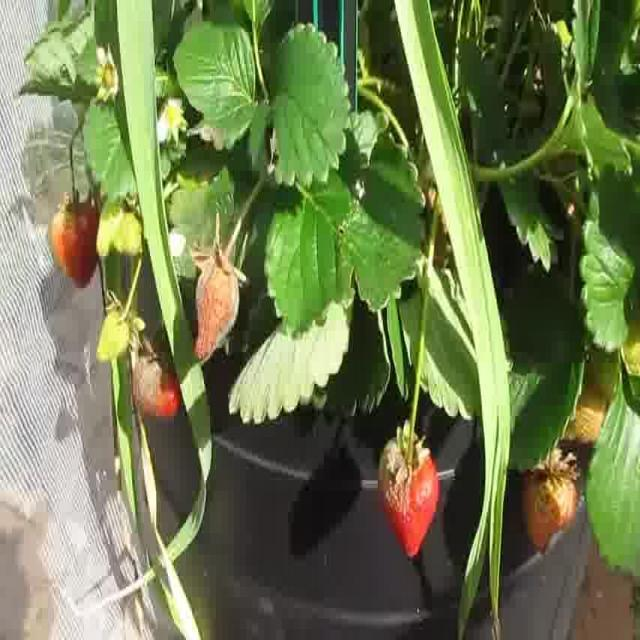Fruta sana: (526, 454, 578, 555), (590, 305, 640, 408), (50, 200, 100, 290), (559, 370, 610, 442), (96, 311, 130, 364), (96, 202, 128, 258), (113, 211, 141, 254), (103, 62, 114, 90), (168, 103, 178, 128)
Moho gris: (378, 436, 440, 560), (194, 256, 239, 362), (132, 353, 182, 418)
